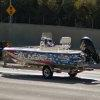Boat: (2, 28, 97, 87)
